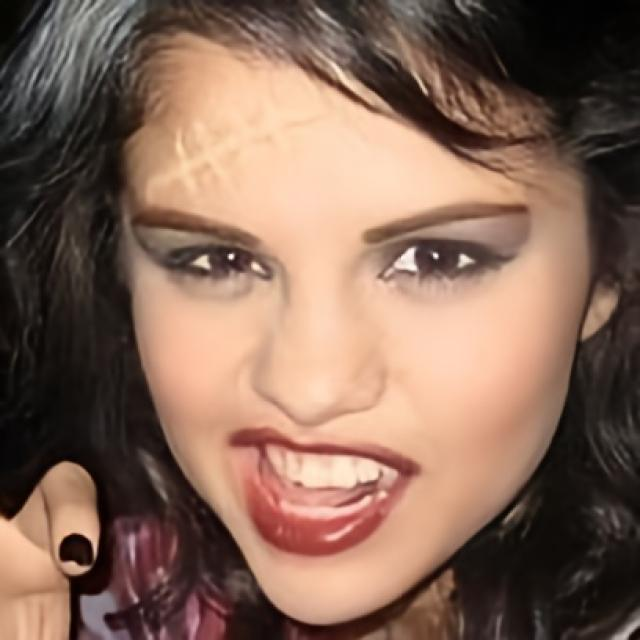anger: (126, 36, 566, 631)
